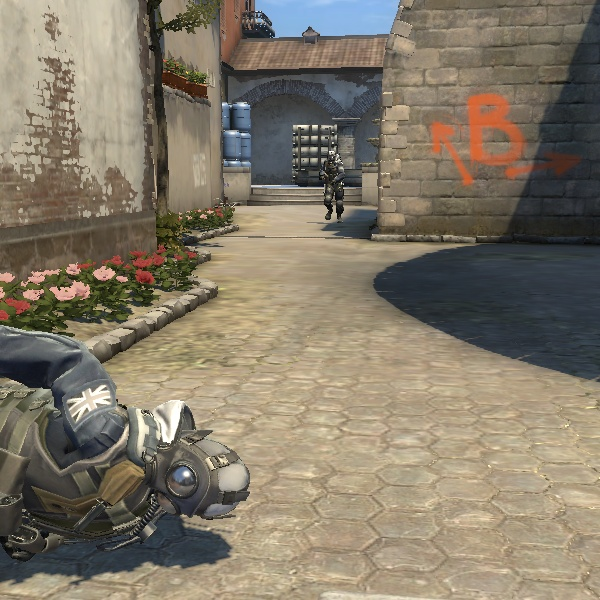ct_body: (312, 149, 352, 223)
